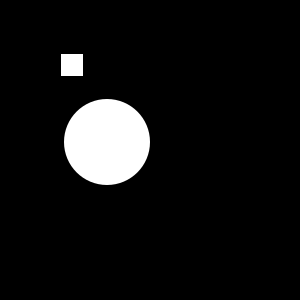circle: (61, 54, 83, 76)
rectangle: (64, 99, 150, 185)
